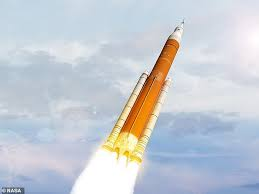ten_lua: (110, 11, 185, 169)
